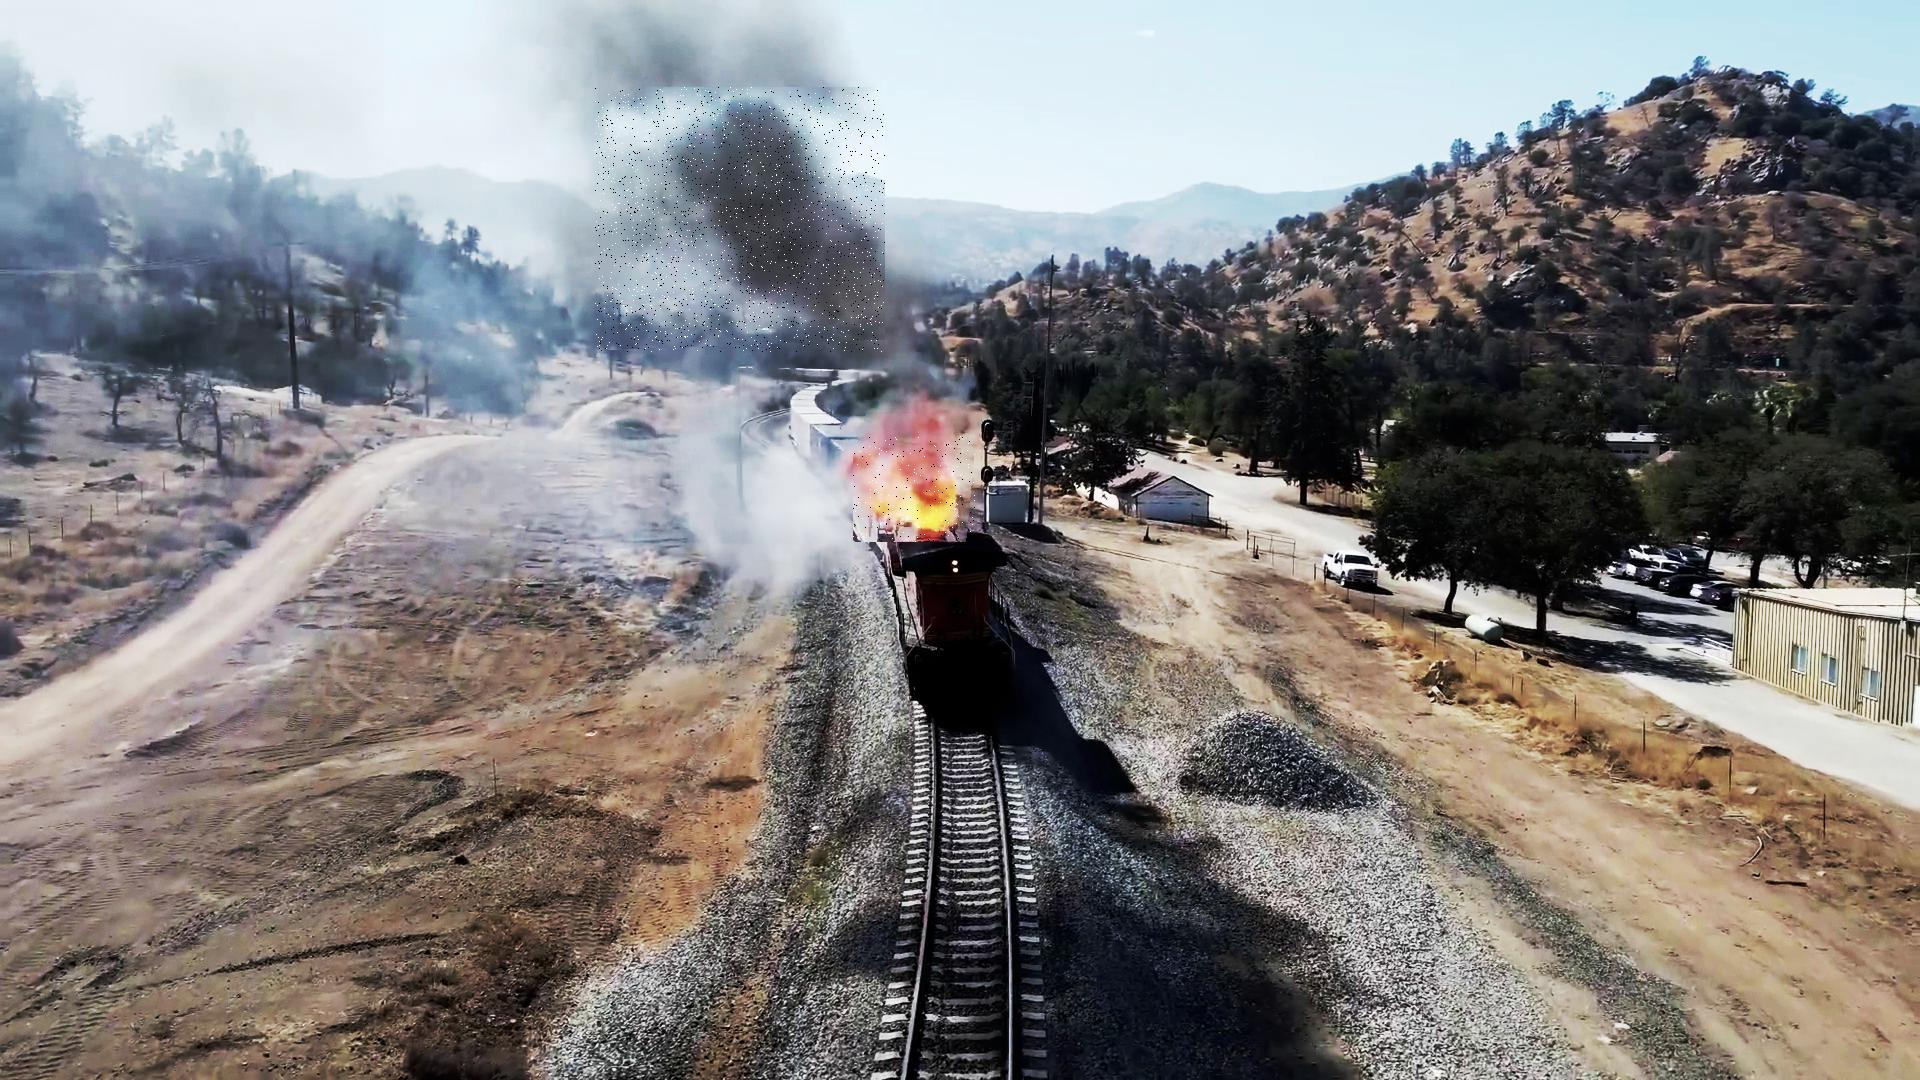fire: (853, 436, 975, 542)
smoke: (595, 88, 885, 353)
